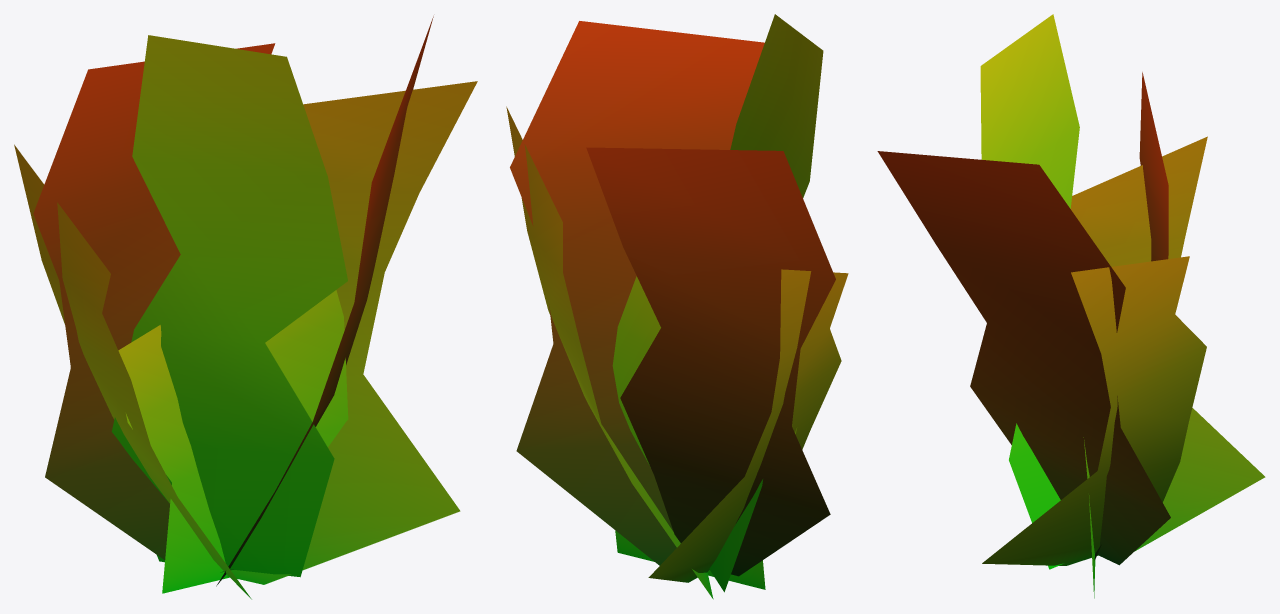
File: Var8Hi17.fbx
3 renders of one model, left to right at view 1: azimuth 30°, elevation 25°; view 2: azimuth 150°, elevation 25°; view 3: azimuth 270°, elevation 25°, orthographic. The views are drawn at different scales.
Visible parts, largest first — view 1: bend1; view 2: bend1; view 3: bend1.
Boxes of the visible parts, x1=… form: bend1: x1=14, y1=16, x2=477, y2=599; bend1: x1=506, y1=14, x2=848, y2=599; bend1: x1=877, y1=14, x2=1265, y2=598.
Bounding box in the file's own units: 1.27 × 1.76 × 1.23.
